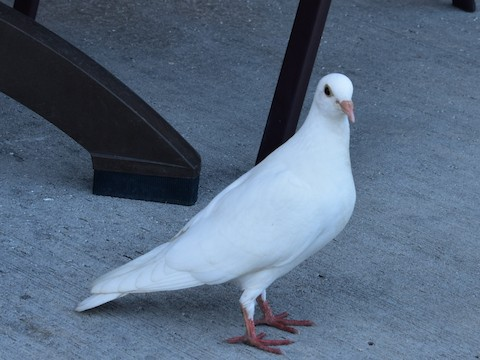pigeon: (67, 70, 362, 354)
